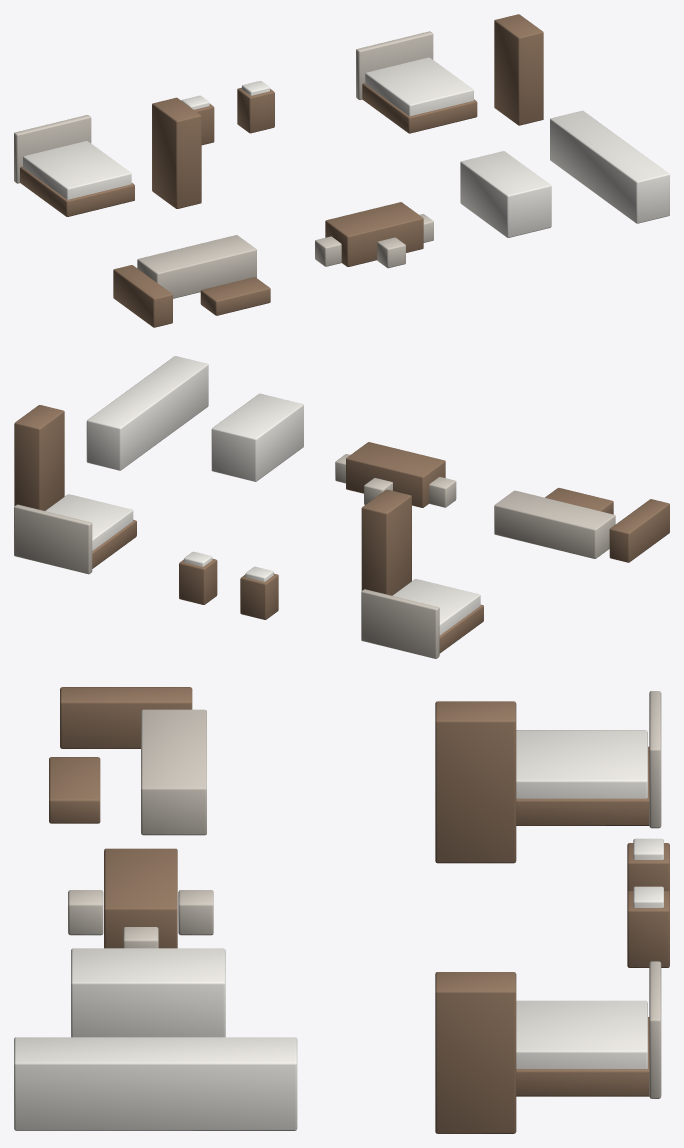
Rendered from interior.glb.
The picture shows the model from 3 angles, top to bottom: view 1: azimuth 30°, elevation 25°; view 2: azimuth 150°, elevation 25°; view 3: azimuth 270°, elevation 25°; orthographic projection. The views are drawn at different scales.
Parts seen in each view (by area): view 1: KitchenCounter, KitchenIslandTop, Bedroom1_Wardrobe, Bedroom2_Wardrobe, LivingSofa, Bedroom1_Mattress, Bedroom2_Mattress, DiningTable, EntertainmentUnit, Bedroom2_Headboard, Bedroom1_Headboard, Bedroom2_BedBase (+6 smaller); view 2: KitchenCounter, KitchenIslandTop, LivingSofa, Bedroom1_Wardrobe, Bedroom2_Wardrobe, Bedroom1_Headboard, Bedroom2_Headboard, DiningTable, EntertainmentUnit, Bedroom2_Mattress, Bedroom1_Mattress, Bathroom1_Vanity (+6 smaller); view 3: KitchenCounter, KitchenIslandTop, Bedroom1_Wardrobe, Bedroom2_Wardrobe, Bedroom1_Mattress, Bedroom2_Mattress, LivingSofa, DiningTable, EntertainmentUnit, Bedroom2_BedBase, Bedroom1_BedBase, CoffeeTable (+9 smaller).
Part boxes in pixels (x1,y1,x2,y2): KitchenCounter: (550,110,669,223); KitchenIslandTop: (460,151,551,237); Bedroom1_Wardrobe: (152,97,201,208); Bedroom2_Wardrobe: (494,14,543,125); LivingSofa: (137,235,256,298); Bedroom1_Mattress: (23,141,131,199); Bedroom2_Mattress: (365,57,473,116); DiningTable: (325,202,423,266); EntertainmentUnit: (113,265,172,327); Bedroom2_Headboard: (356,31,433,99); Bedroom1_Headboard: (14,115,91,183); Bedroom2_BedBase: (362,83,477,133); KitchenCounter: (86,356,208,470); KitchenIslandTop: (211,393,303,481); LivingSofa: (494,490,615,558); Bedroom1_Wardrobe: (361,489,411,595); Bedroom2_Wardrobe: (14,405,64,510); Bedroom1_Headboard: (361,589,439,658); Bedroom2_Headboard: (14,504,92,574); DiningTable: (346,442,445,507); EntertainmentUnit: (609,499,669,562); Bedroom2_Mattress: (45,494,133,550); Bedroom1_Mattress: (392,579,480,635); Bathroom1_Vanity: (240,573,278,619); KitchenCounter: (14,1037,297,1130); KitchenIslandTop: (71,948,225,1037); Bedroom1_Wardrobe: (435,701,516,863); Bedroom2_Wardrobe: (435,972,516,1133); Bedroom1_Mattress: (516,730,647,798); Bedroom2_Mattress: (516,1000,647,1068); LivingSofa: (141,709,206,835); DiningTable: (104,848,177,948); EntertainmentUnit: (60,687,192,748); Bedroom2_BedBase: (516,1017,649,1096); Bedroom1_BedBase: (516,746,649,825); CoffeeTable: (49,757,100,823).
Bounding box in the file's own units: 12.87 × 2.15 × 8.91.
